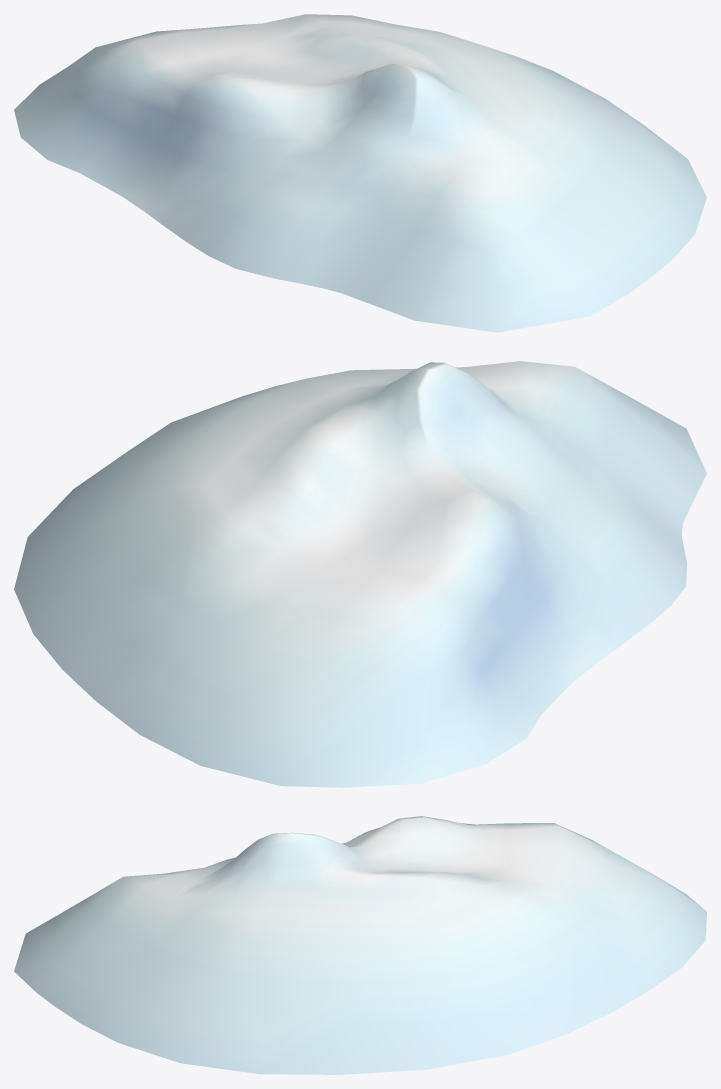
File: DefaultIglooBackgroundSnowFill.fbx
3 renders of one model, top to bottom at view 1: azimuth 30°, elevation 25°; view 2: azimuth 150°, elevation 25°; view 3: azimuth 270°, elevation 25°, orthographic. The views are drawn at different scales.
Parts seen in each view (by area): view 1: DefaultIglooBackgroundSnowFill; view 2: DefaultIglooBackgroundSnowFill; view 3: DefaultIglooBackgroundSnowFill.
Part boxes in pixels (x1,y1,x2,y2): DefaultIglooBackgroundSnowFill: [14, 14, 706, 332]; DefaultIglooBackgroundSnowFill: [14, 361, 706, 787]; DefaultIglooBackgroundSnowFill: [14, 816, 706, 1074].
Size of the model in its own units: 2143 by 601 by 2966.
